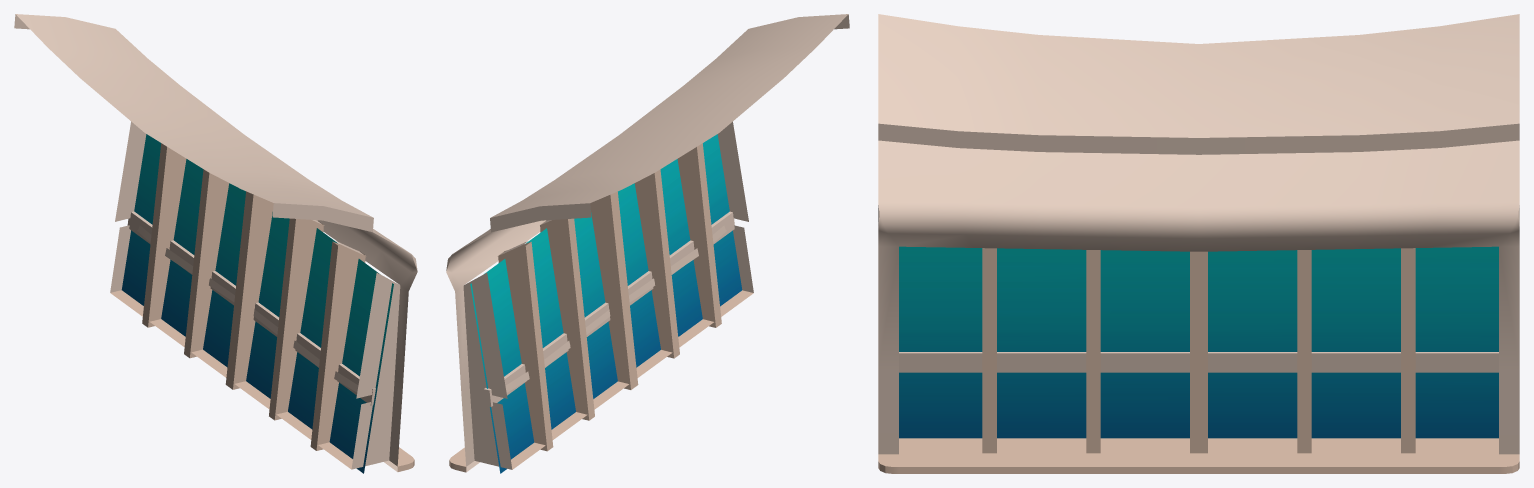
Rendered from Building3.fbx.
The picture shows the model from 3 angles, left to right: view 1: azimuth 30°, elevation 25°; view 2: azimuth 150°, elevation 25°; view 3: azimuth 270°, elevation 25°; orthographic projection. The views are drawn at different scales.
Visible parts, largest first — view 1: Building3; view 2: Building3; view 3: Building3.
Boxes of the visible parts, x1=… form: Building3: x1=14, y1=14, x2=417, y2=473; Building3: x1=446, y1=14, x2=849, y2=473; Building3: x1=878, y1=14, x2=1519, y2=473.
Size of the model in its own units: 1145 by 2239 by 3501.
Materials: 1 (1 with a texture image).
